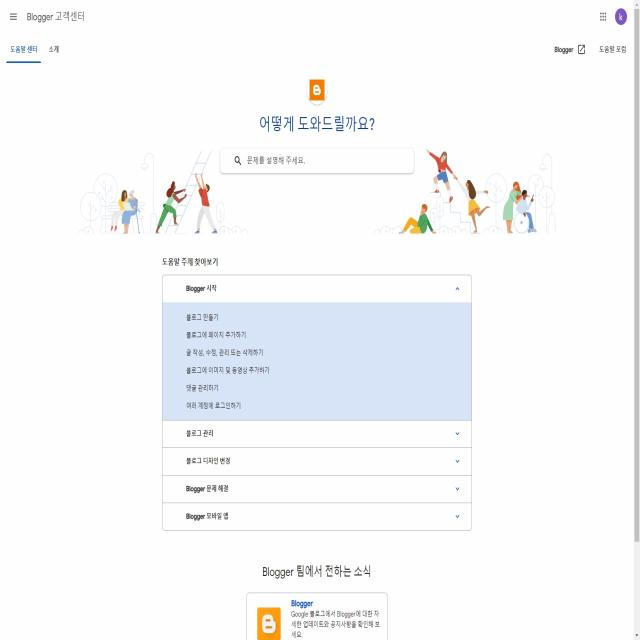menu-bar: (595, 4, 628, 29), (6, 8, 20, 28)
menu-panel: (2, 37, 64, 64)
search: (217, 146, 416, 175)
